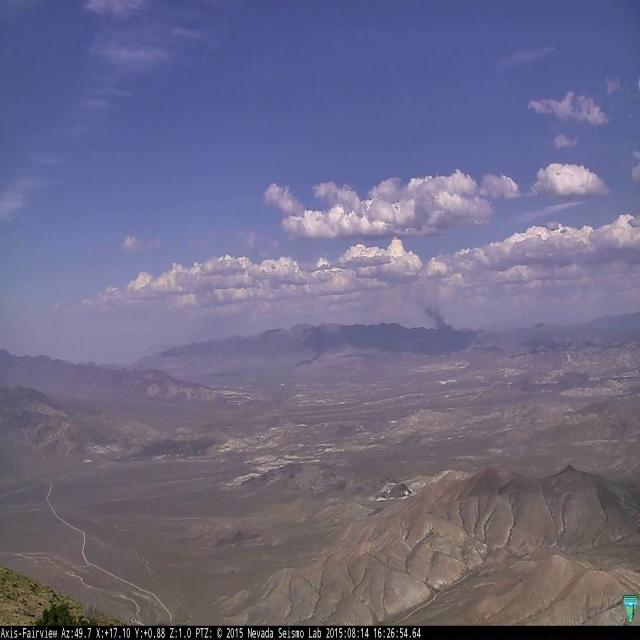smoke: (414, 296, 454, 358)
